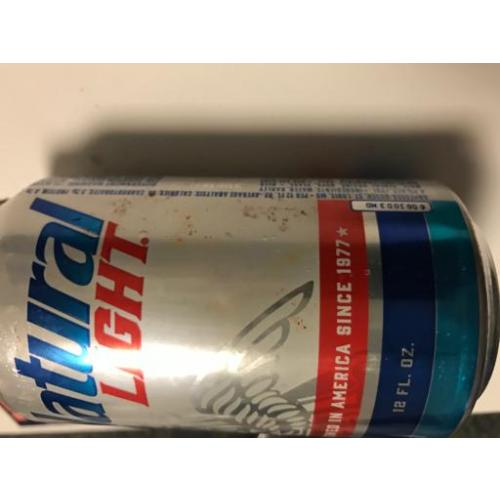metal: (0, 184, 498, 435)
